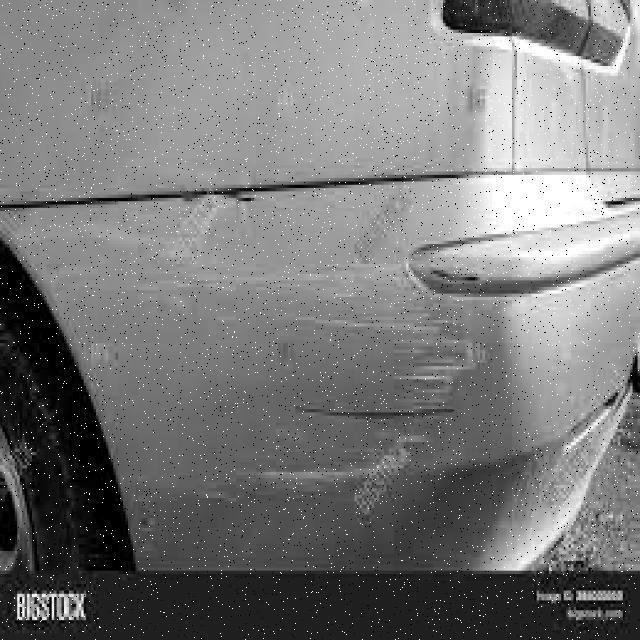rear-bumper-dent: (1, 172, 636, 581)
